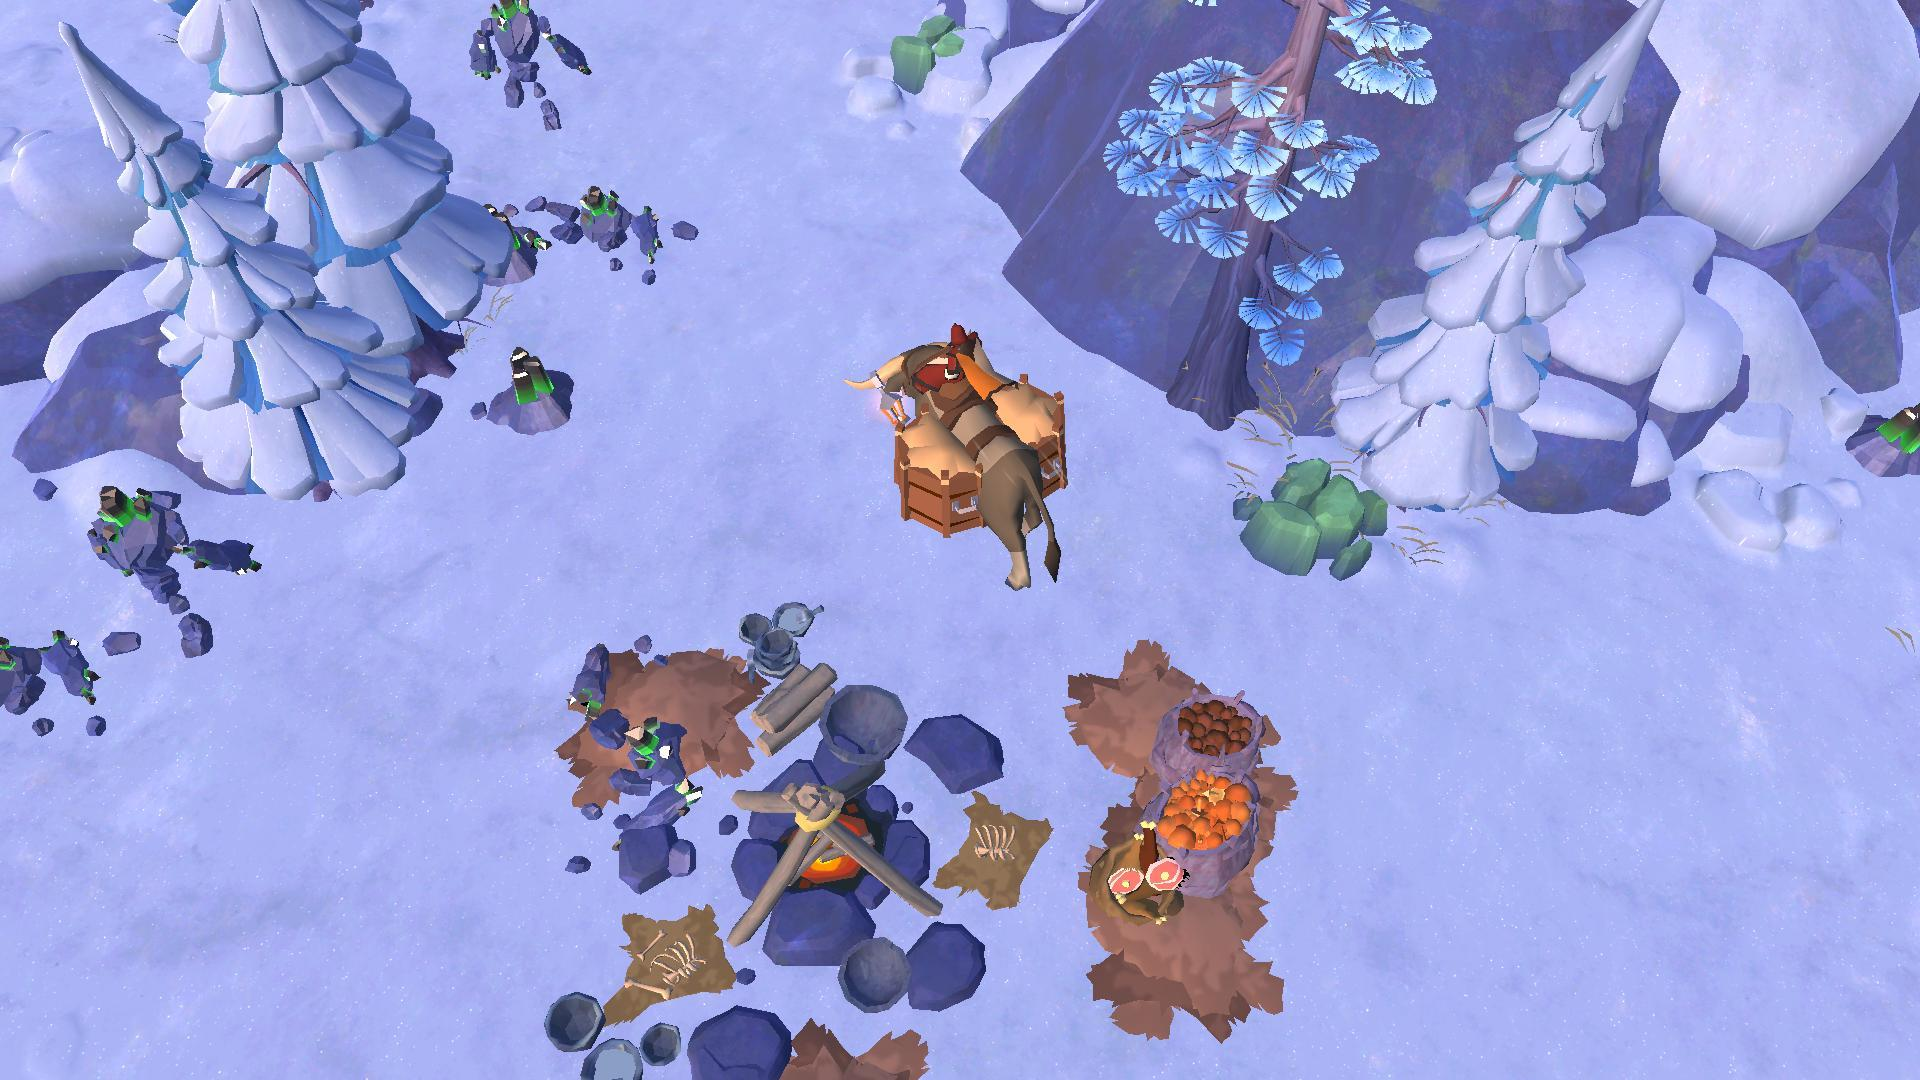ore_t3: (502, 344, 558, 405), (1875, 404, 1920, 459)
rock_t3: (1230, 447, 1403, 593), (876, 11, 993, 109)
